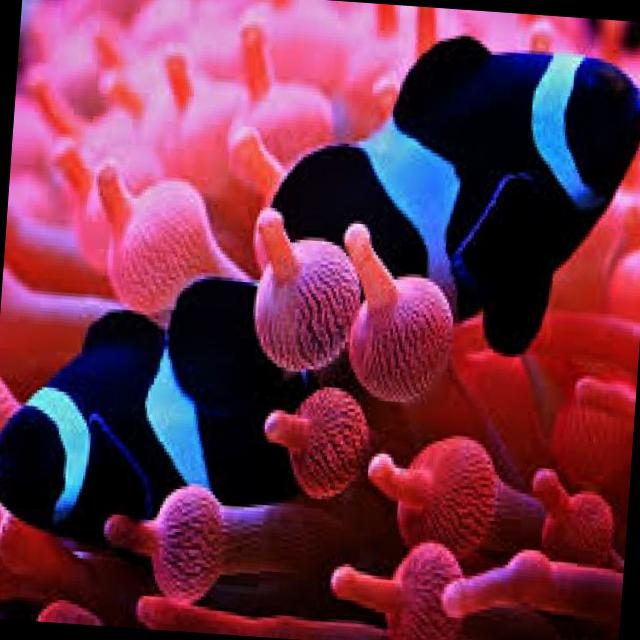ClownFish: (253, 20, 640, 364), (0, 262, 335, 549)
